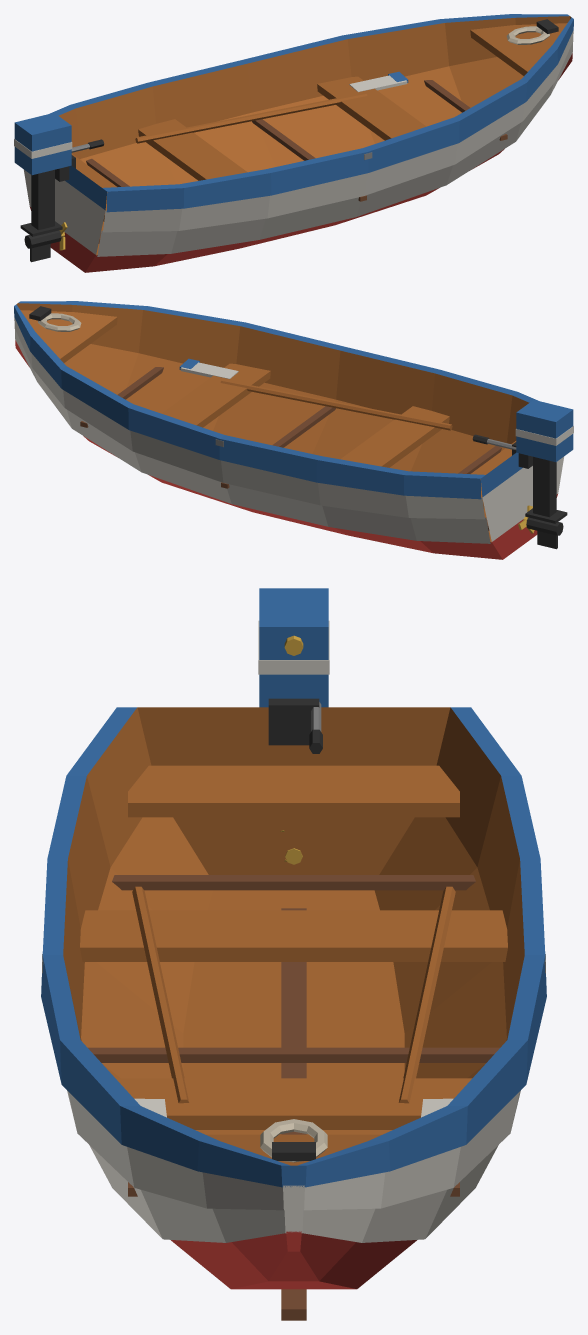
Rendered from sandal.glb.
The picture shows the model from 3 angles, top to bottom: view 1: azimuth 30°, elevation 25°; view 2: azimuth 150°, elevation 25°; view 3: azimuth 270°, elevation 25°; orthographic projection. The views are drawn at different scales.
Visible parts, largest first — view 1: sandal; view 2: sandal; view 3: sandal.
Boxes of the visible parts, x1,y1,x2,y2 form: sandal: (14,14,573,272); sandal: (14,301,573,559); sandal: (41,588,546,1320).
Size of the model in its own units: 4 by 1 by 1.6.
